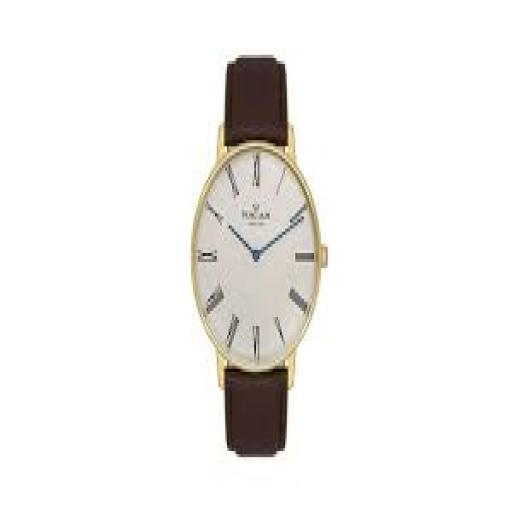KolSaati: (189, 36, 329, 474)
